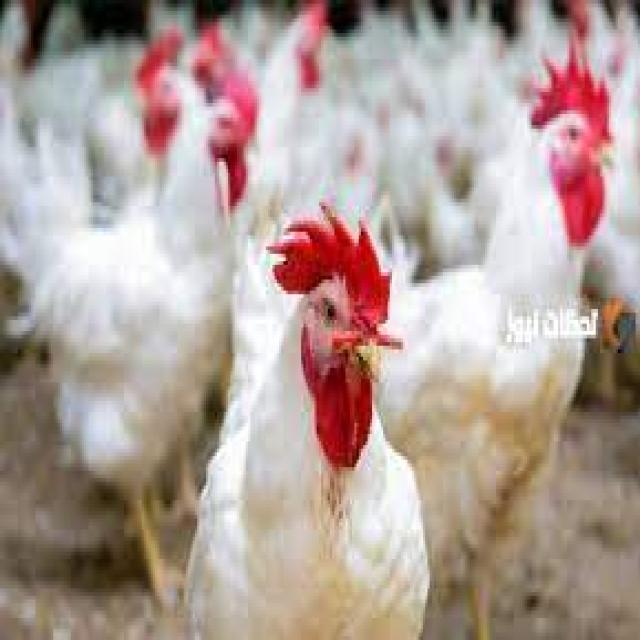Healthy: (184, 199, 446, 639)
